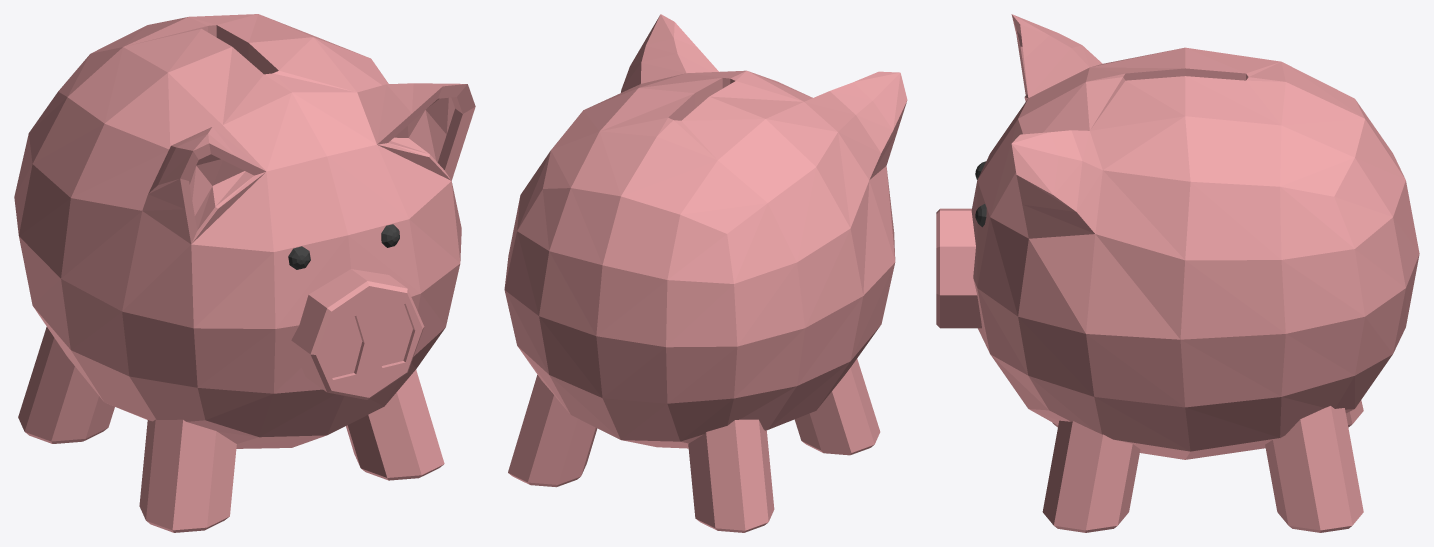
File: pig-bank.glb
The picture shows the model from 3 angles, left to right: view 1: azimuth 30°, elevation 25°; view 2: azimuth 150°, elevation 25°; view 3: azimuth 270°, elevation 25°; orthographic projection. The views are drawn at different scales.
Parts seen in each view (by area): view 1: node-0; view 2: node-0; view 3: node-0.
Boxes of the visible parts, <box> form: node-0: <box>14,14,475,532</box>; node-0: <box>504,14,907,532</box>; node-0: <box>936,14,1419,532</box>.
Bounding box in the file's own units: 0.8785 × 0.9392 × 1.04.
